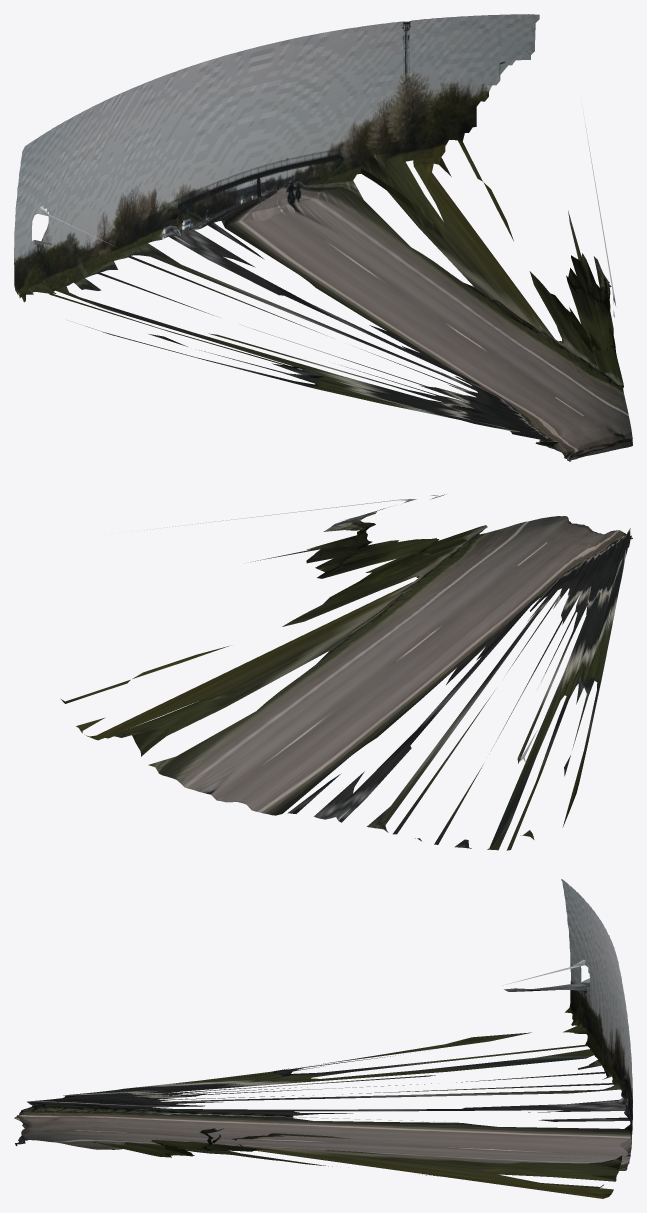
3 views of the same model, one above another, from view 1: azimuth 30°, elevation 25°; view 2: azimuth 150°, elevation 25°; view 3: azimuth 270°, elevation 25° (orthographic). The views are drawn at different scales.
Parts seen in each view (by area): view 1: defaultobject; view 2: defaultobject; view 3: defaultobject.
Boxes of the visible parts, x1=… form: defaultobject: x1=14, y1=14, x2=632, y2=461; defaultobject: x1=61, y1=494, x2=632, y2=850; defaultobject: x1=14, y1=879, x2=632, y2=1198.
Bounding box in the file's own units: 39.11 × 12.99 × 44.5.
Materials: 1 (1 with a texture image).
